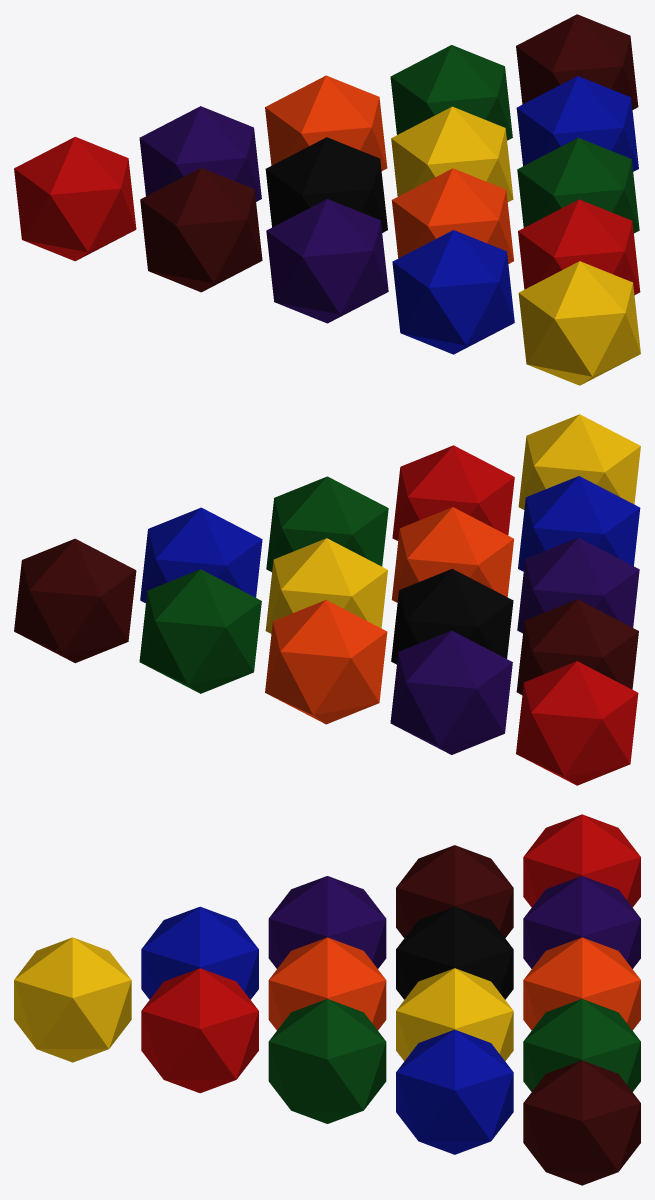
Rendered from pool_balls_rack.obj.
3 views of the same model, one above another, from view 1: azimuth 30°, elevation 25°; view 2: azimuth 150°, elevation 25°; view 3: azimuth 270°, elevation 25° (orthographic).
Visible parts, largest first — view 1: pool_balls_rack; view 2: pool_balls_rack; view 3: pool_balls_rack.
Boxes of the visible parts, <box> form: pool_balls_rack: <box>14,14,640,385</box>; pool_balls_rack: <box>14,414,640,785</box>; pool_balls_rack: <box>14,814,640,1185</box>.
Size of the model in its own units: 0.582 by 0.114 by 0.517.
